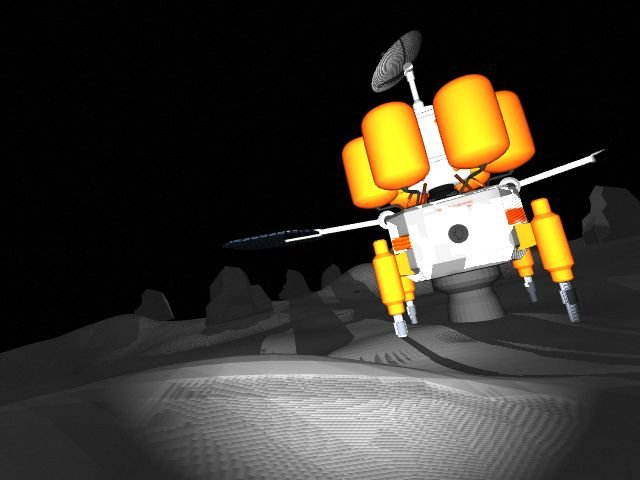homebase: (216, 27, 639, 339)
